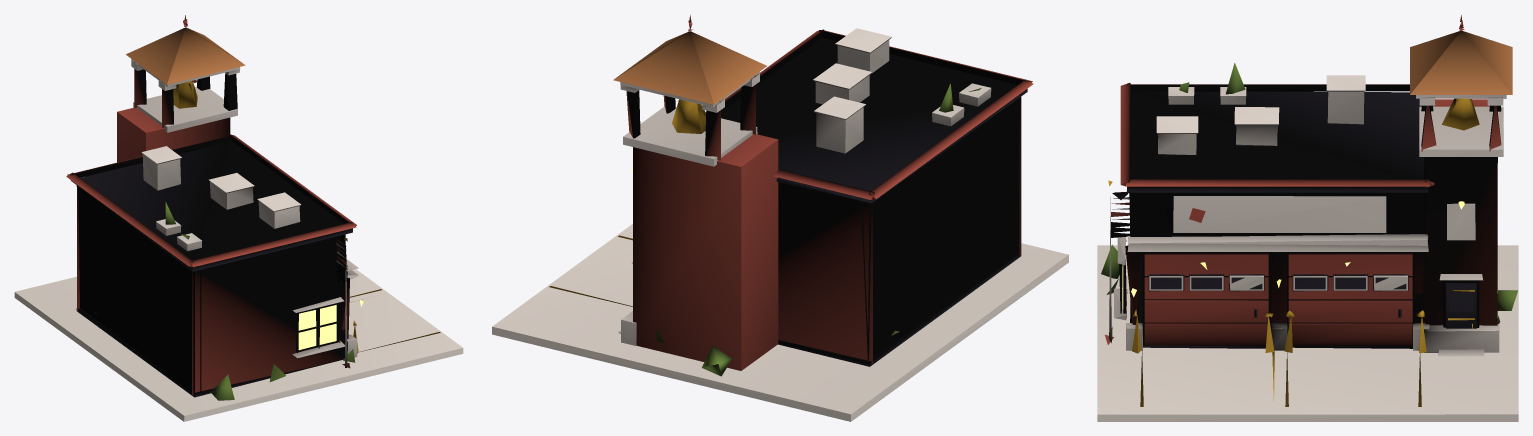
Rendered from bld.fire-station.lod2.glb.
3 views of the same model, side by side, from view 1: azimuth 30°, elevation 25°; view 2: azimuth 150°, elevation 25°; view 3: azimuth 270°, elevation 25° (orthographic). The views are drawn at different scales.
Parts seen in each view (by area): view 1: object 6, roof, interior; view 2: object 6, roof, interior; view 3: object 6, roof, door_bay_L, door_bay_R, door_service.
Part boxes in pixels (bbox=[...]): object 6: bbox=[14, 60, 463, 421]; roof: bbox=[71, 15, 352, 271]; interior: bbox=[76, 308, 343, 397]; object 6: bbox=[492, 29, 1068, 421]; roof: bbox=[613, 15, 1027, 203]; interior: bbox=[778, 252, 1021, 366]; object 6: bbox=[1097, 82, 1518, 421]; roof: bbox=[1127, 15, 1512, 192]; door_bay_L: bbox=[1142, 253, 1270, 348]; door_bay_R: bbox=[1287, 253, 1414, 348]; door_service: bbox=[1446, 283, 1476, 329].
Size of the model in its own units: 11.54 by 10.44 by 12.14.
